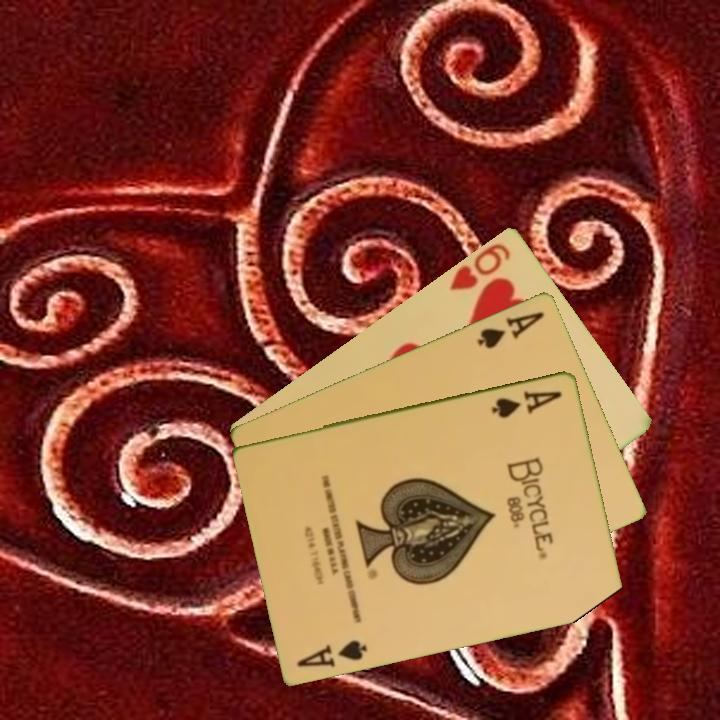6h: (446, 239, 514, 293)
As: (473, 307, 547, 351), (294, 635, 371, 670), (489, 387, 565, 421)
